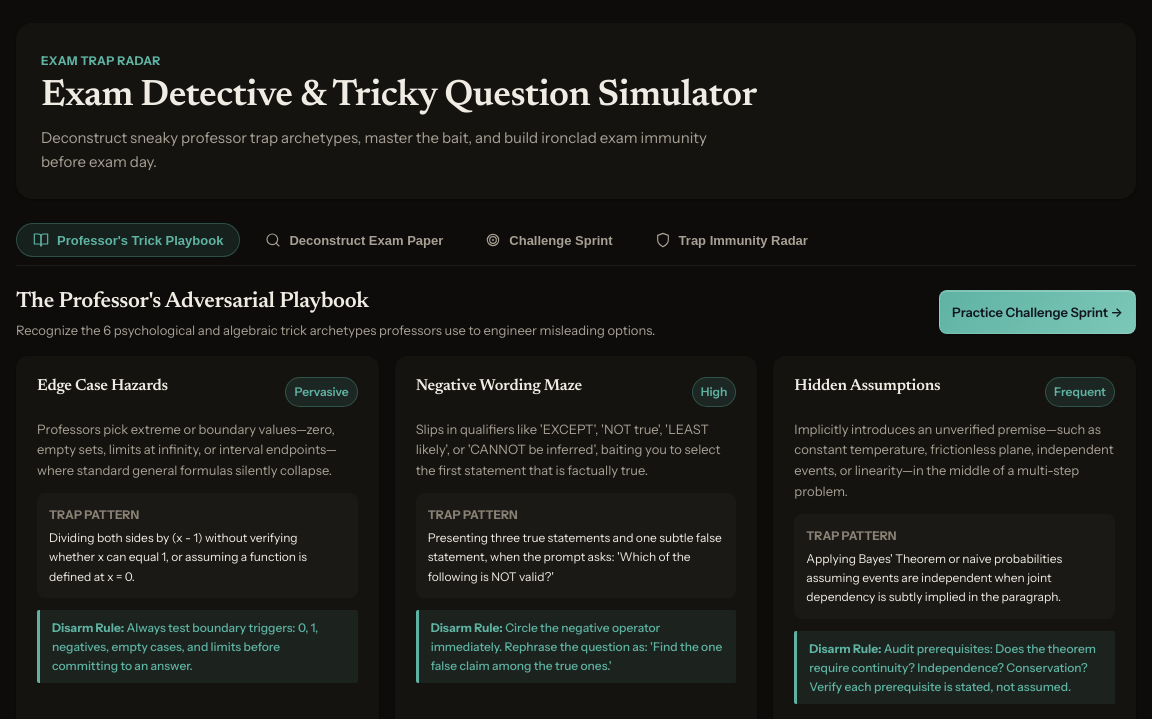
Test: ExamDetectiveHubView › switches to Trap Immunity Radar tab and displays SVG radar and badges
Click the button "Trap Immunity Radar" at {"x": 731, "y": 240}, box [638,223,825,257]
(page scrolled)
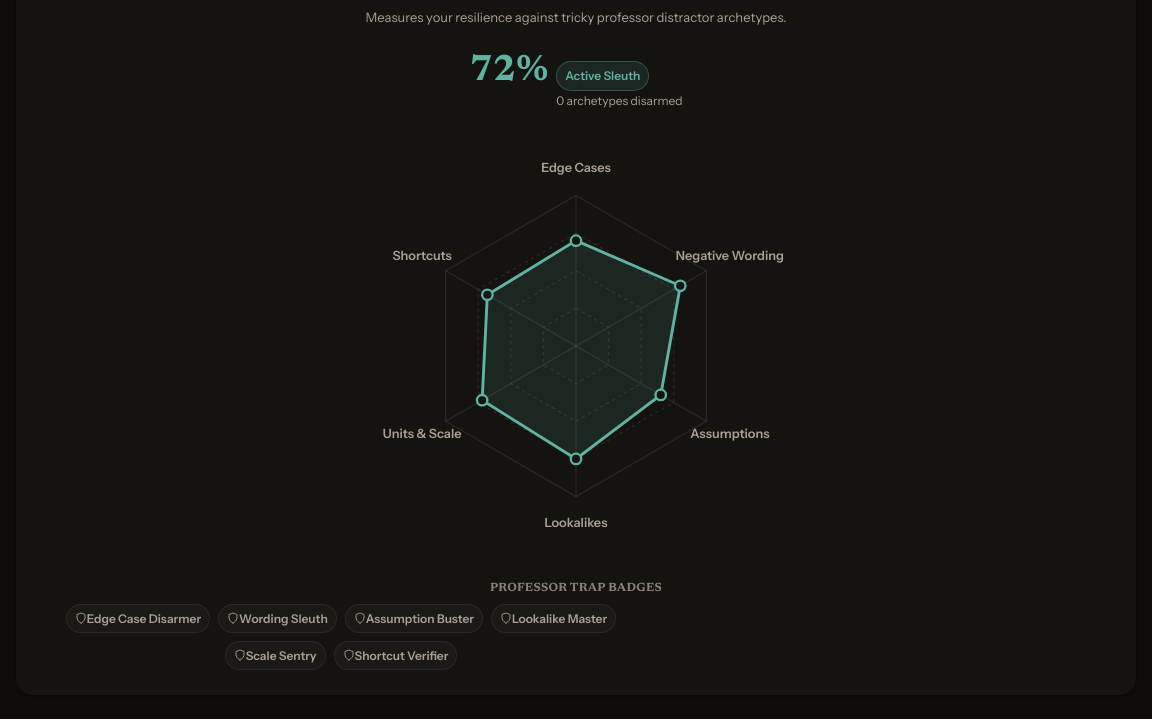
Expected: the icon named "Trap Immunity Radar Chart" is shown, [356,126,796,566]
Expected: the text "Edge Case Disarmer" is shown, [66,604,210,633]
Expected: the text "Wording Sleuth" is shown, [218,604,337,633]
